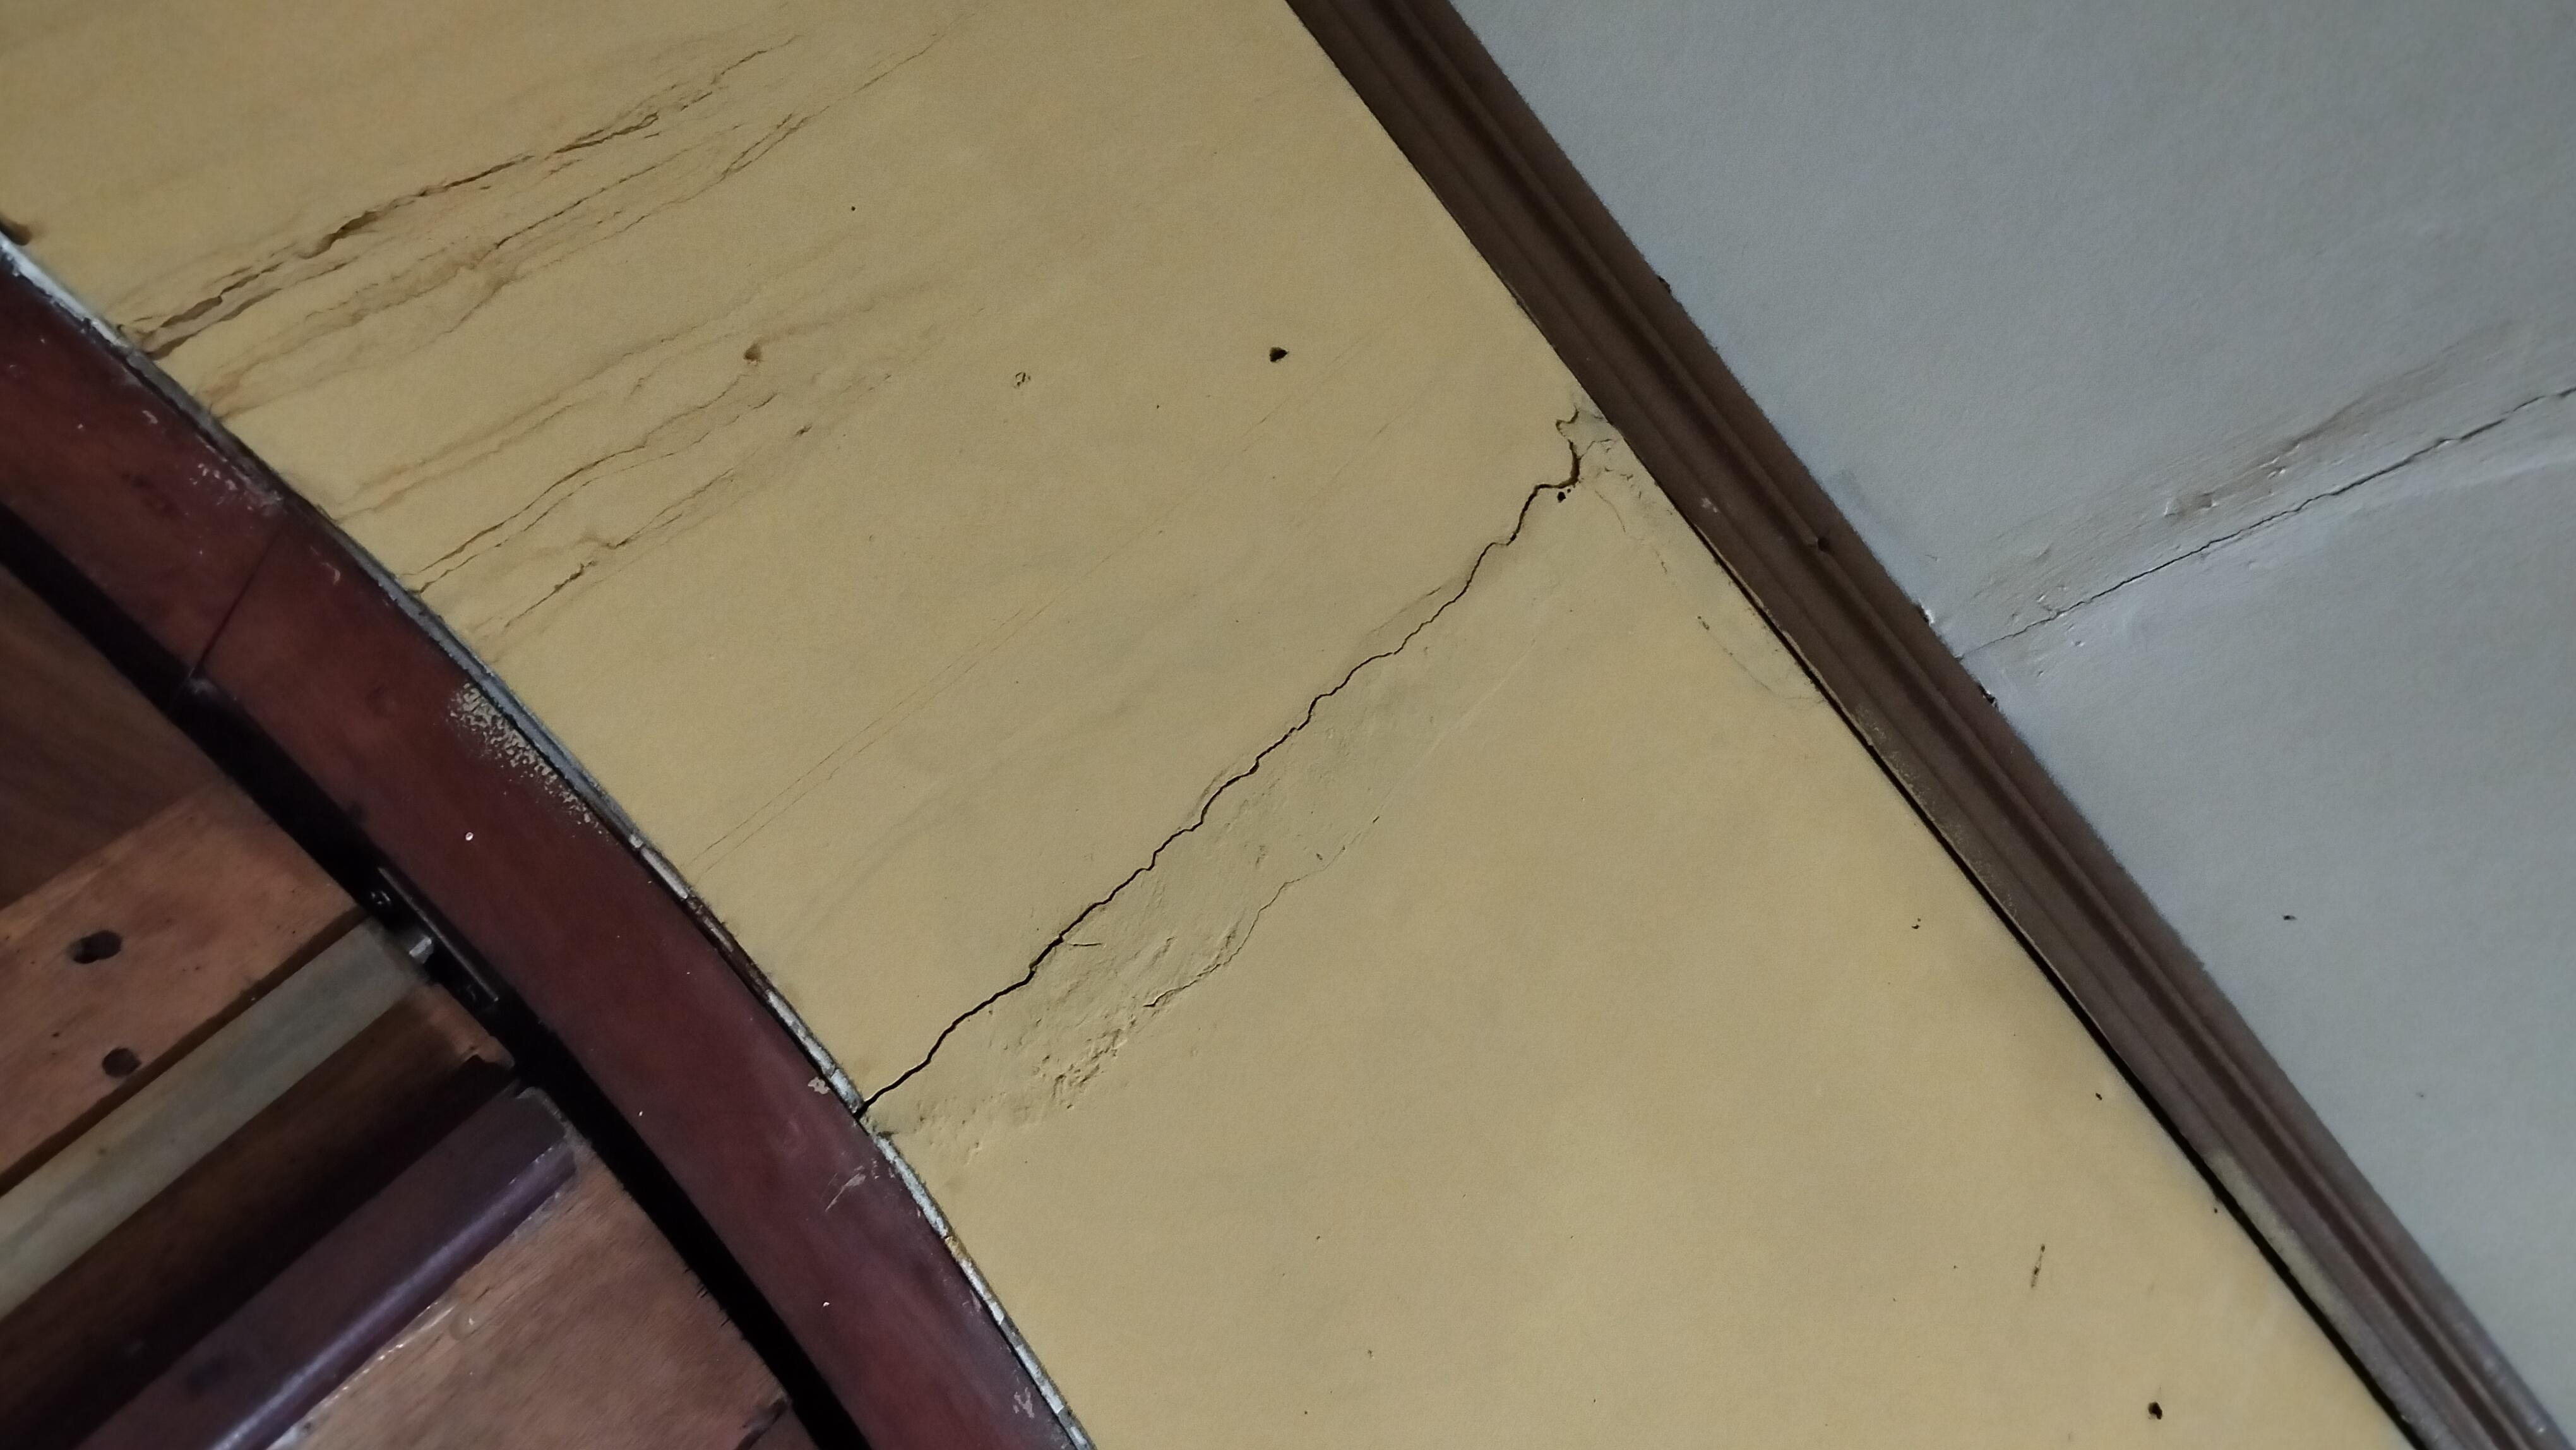Crack: (856, 395, 1601, 1108), (1954, 363, 2575, 682)
